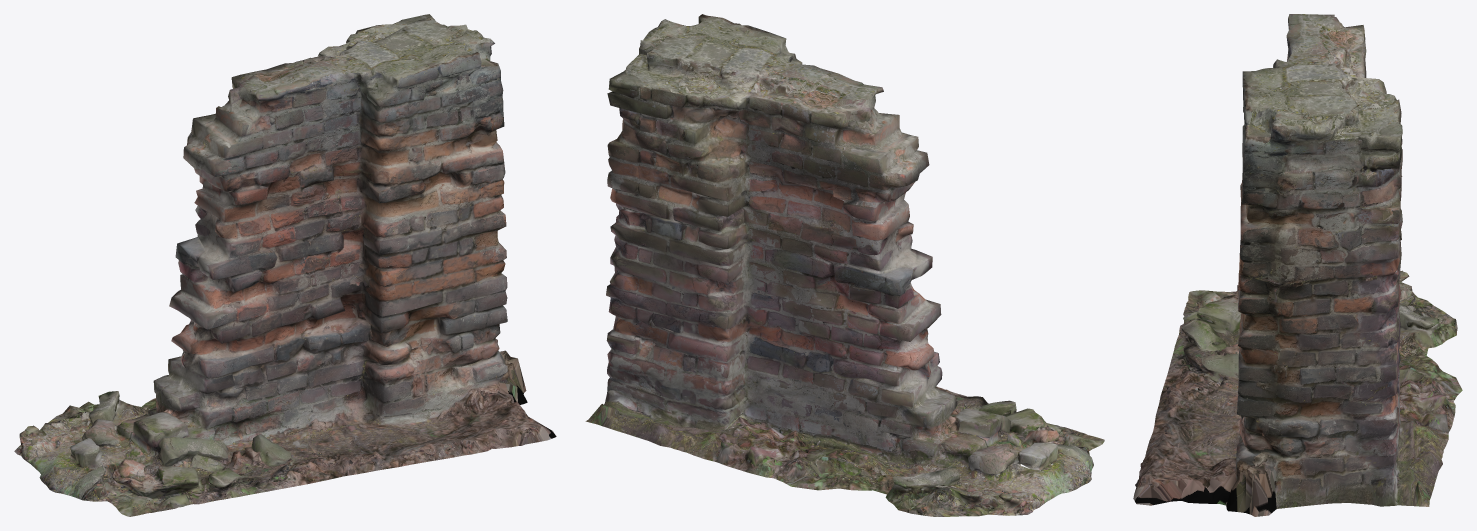
File: sm_Fence_02_02.fbx
3 renders of one model, left to right at view 1: azimuth 30°, elevation 25°; view 2: azimuth 150°, elevation 25°; view 3: azimuth 270°, elevation 25°, orthographic. The views are drawn at different scales.
Parts seen in each view (by area): view 1: sm_Fence_02_02_LOD0; view 2: sm_Fence_02_02_LOD0; view 3: sm_Fence_02_02_LOD0.
Boxes of the visible parts, box(x1,y1,x2,y2) form: sm_Fence_02_02_LOD0: box(14, 14, 556, 516); sm_Fence_02_02_LOD0: box(585, 14, 1104, 516); sm_Fence_02_02_LOD0: box(1133, 14, 1462, 516).
Bounding box in the file's own units: 274 × 157 × 204.
